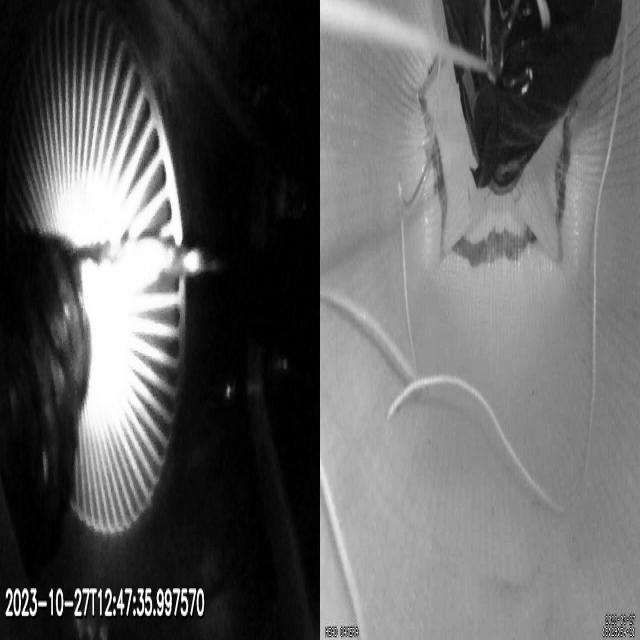red-circle: (418, 66, 579, 266)
